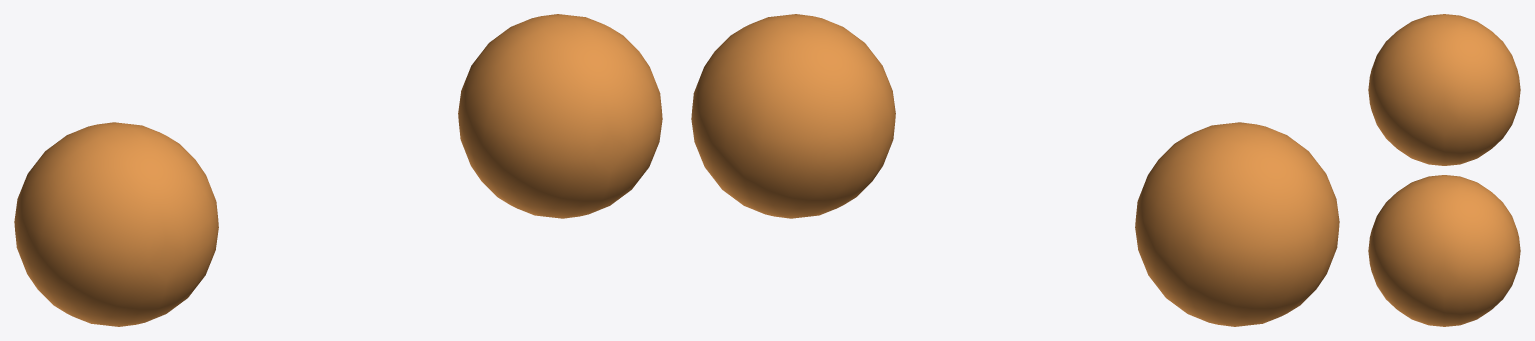
Rendered from expected.gltf.
The picture shows the model from 3 angles, left to right: view 1: azimuth 30°, elevation 25°; view 2: azimuth 150°, elevation 25°; view 3: azimuth 270°, elevation 25°; orthographic projection. The views are drawn at different scales.
Size of the model in its own units: 56 by 16 by 16.
